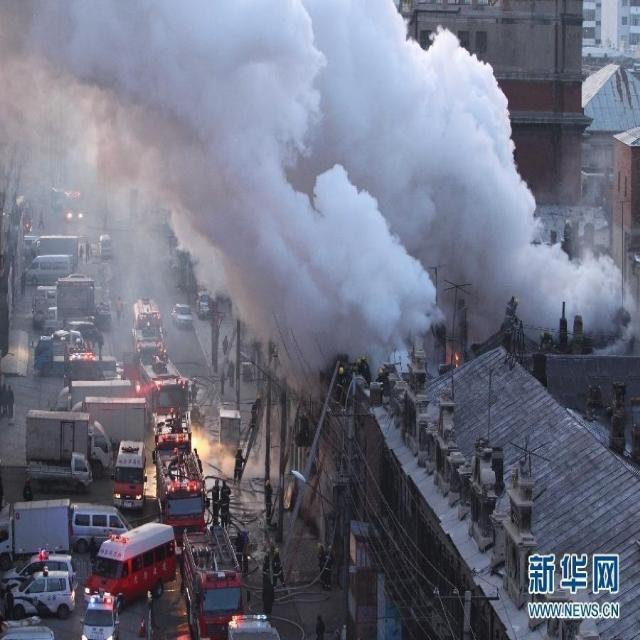Smoke: (0, 1, 640, 397)
